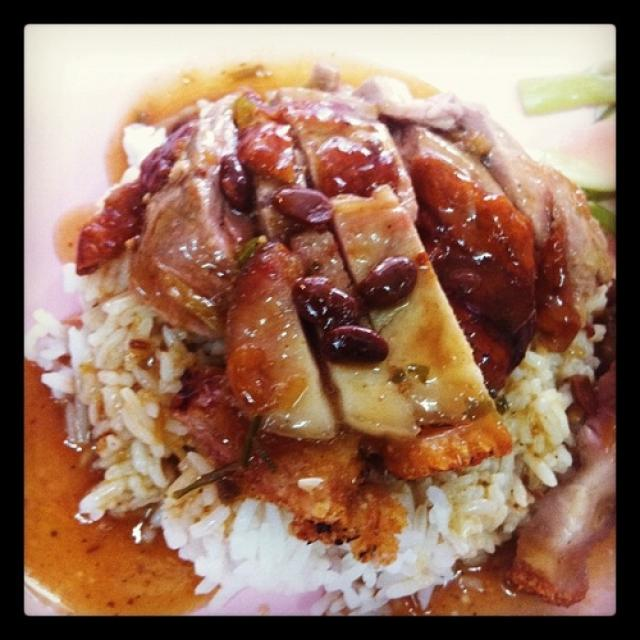米饭主食: (55, 55, 609, 604)
